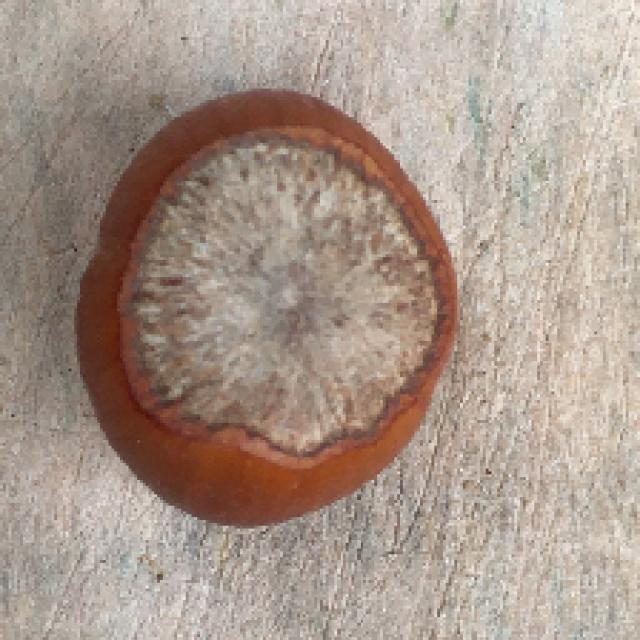QualityHazelnut: (78, 86, 458, 528)
